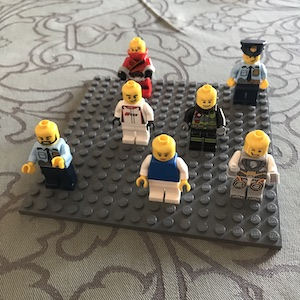Lego: (22, 118, 78, 194), (135, 134, 190, 205), (225, 133, 279, 202), (225, 38, 270, 106), (182, 84, 227, 151), (111, 79, 155, 147), (117, 35, 155, 99)
